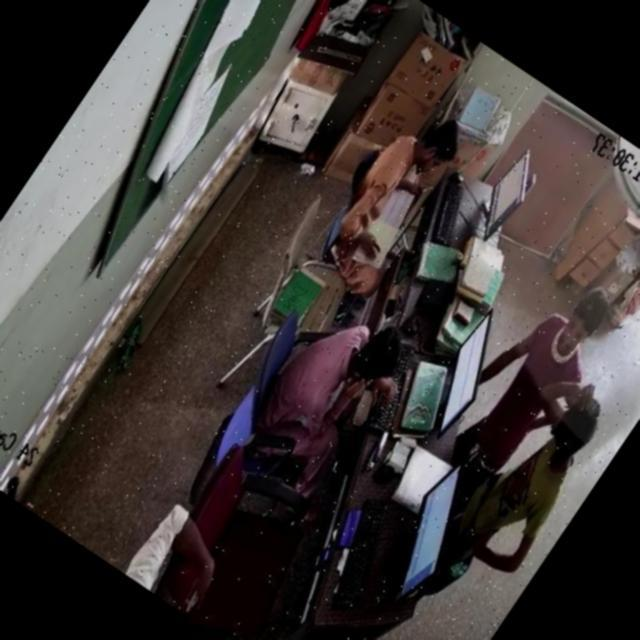person: (444, 372, 620, 580), (458, 288, 612, 487), (257, 296, 411, 466), (323, 102, 468, 276)
